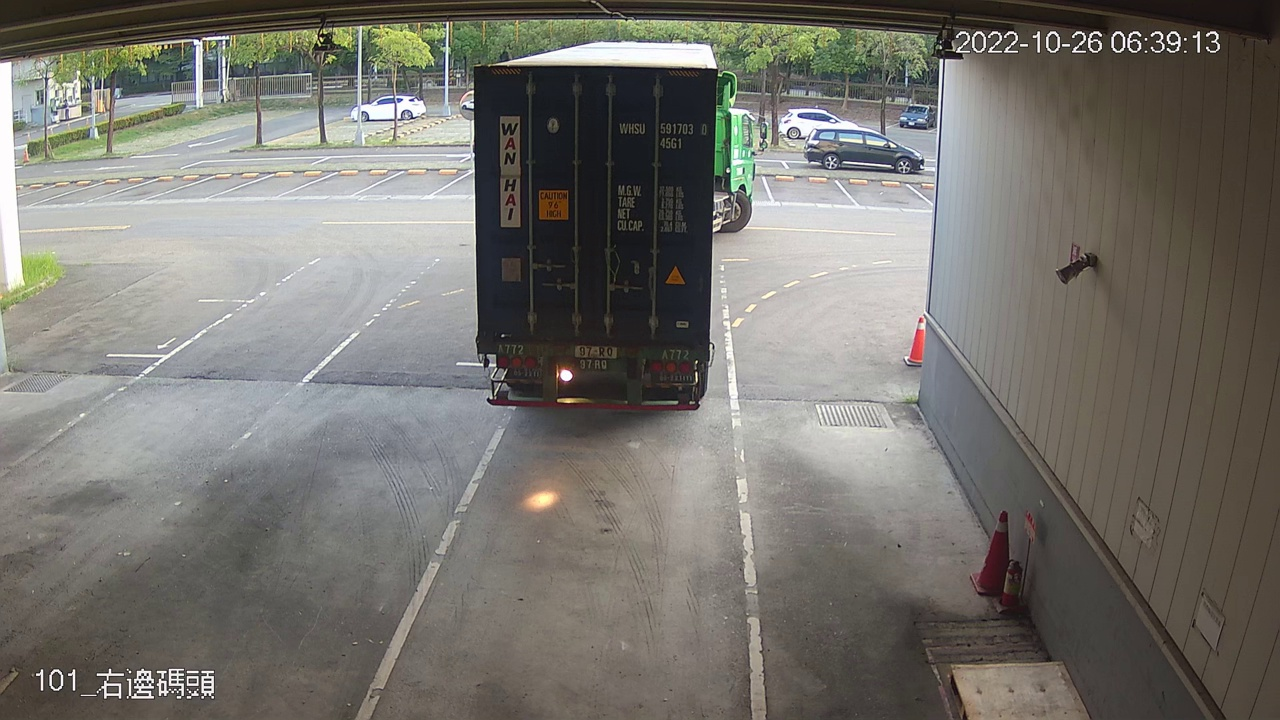container: (614, 118, 711, 156)
